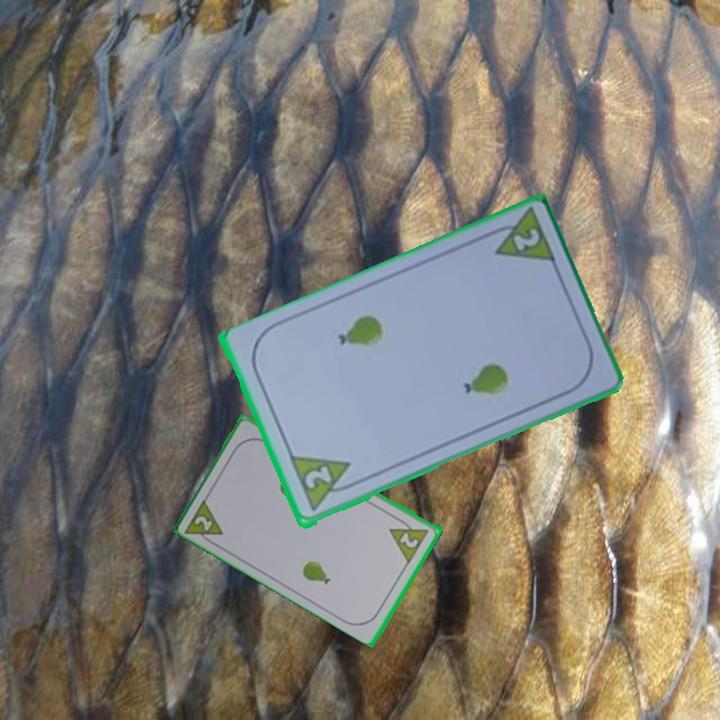2p: (182, 493, 227, 550), (386, 513, 432, 565), (300, 463, 334, 493), (509, 225, 543, 255)
